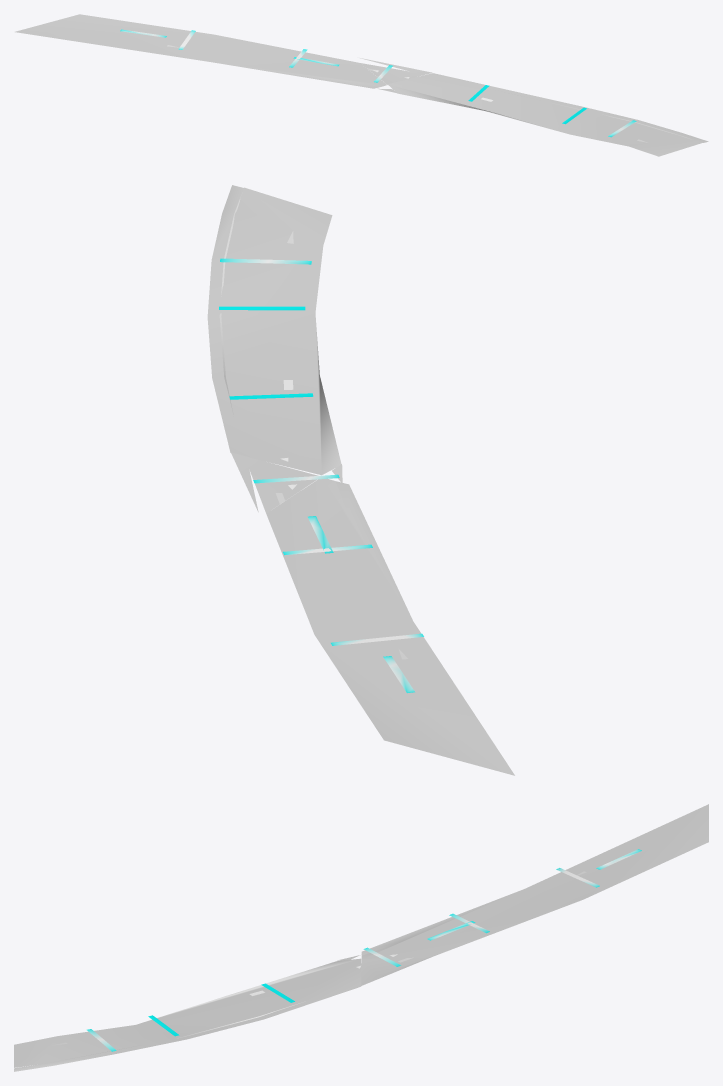
Rendered from cell_70_50.fbx.
The picture shows the model from 3 angles, top to bottom: view 1: azimuth 30°, elevation 25°; view 2: azimuth 150°, elevation 25°; view 3: azimuth 270°, elevation 25°; orthographic projection. The views are drawn at different scales.
Parts seen in each view (by area): view 1: SpaceCenter_Long3_GenerateRoad_Asphalt_Mesh_x87_y62_13808_HD, SpaceCenter_Long3_GenerateRoad_Asphalt_Mesh_x88_y63_13967_HD, SpaceCenter_Long3_GenerateRoad_Asphalt_PCGMesh_Decal_Mesh_x8 (×2), SpaceCenter_Long3_GenerateRoad_Asphalt_Mesh_x87_y63_13809_HD; view 2: SpaceCenter_Long3_GenerateRoad_Asphalt_Mesh_x88_y63_13967_HD, SpaceCenter_Long3_GenerateRoad_Asphalt_Mesh_x87_y62_13808_HD, SpaceCenter_Long3_GenerateRoad_Asphalt_PCGMesh_Decal_Mesh_x8 (×2), SpaceCenter_Long3_GenerateRoad_Asphalt_Mesh_x87_y63_13809_HD; view 3: SpaceCenter_Long3_GenerateRoad_Asphalt_Mesh_x87_y62_13808_HD, SpaceCenter_Long3_GenerateRoad_Asphalt_Mesh_x88_y63_13967_HD, SpaceCenter_Long3_GenerateRoad_Asphalt_PCGMesh_Decal_Mesh_x8 (×2), SpaceCenter_Long3_GenerateRoad_Asphalt_Mesh_x87_y63_13809_HD.
Part boxes in pixels (left/top/right/bottom): SpaceCenter_Long3_GenerateRoad_Asphalt_Mesh_x87_y62_13808_HD: left=15, top=14, right=386, bottom=88; SpaceCenter_Long3_GenerateRoad_Asphalt_Mesh_x88_y63_13967_HD: left=388, top=73, right=708, bottom=156; SpaceCenter_Long3_GenerateRoad_Asphalt_PCGMesh_Decal_Mesh_x8 (×2): left=120, top=29, right=636, bottom=137; SpaceCenter_Long3_GenerateRoad_Asphalt_Mesh_x87_y63_13809_HD: left=360, top=58, right=432, bottom=84; SpaceCenter_Long3_GenerateRoad_Asphalt_Mesh_x88_y63_13967_HD: left=207, top=185, right=341, bottom=475; SpaceCenter_Long3_GenerateRoad_Asphalt_Mesh_x87_y62_13808_HD: left=266, top=478, right=514, bottom=775; SpaceCenter_Long3_GenerateRoad_Asphalt_PCGMesh_Decal_Mesh_x8 (×2): left=219, top=258, right=423, bottom=692; SpaceCenter_Long3_GenerateRoad_Asphalt_Mesh_x87_y63_13809_HD: left=231, top=452, right=318, bottom=513; SpaceCenter_Long3_GenerateRoad_Asphalt_Mesh_x87_y62_13808_HD: left=361, top=804, right=708, bottom=959; SpaceCenter_Long3_GenerateRoad_Asphalt_Mesh_x88_y63_13967_HD: left=14, top=958, right=361, bottom=1071; SpaceCenter_Long3_GenerateRoad_Asphalt_PCGMesh_Decal_Mesh_x8 (×2): left=87, top=849, right=641, bottom=1051; SpaceCenter_Long3_GenerateRoad_Asphalt_Mesh_x87_y63_13809_HD: left=361, top=954, right=437, bottom=985.
Size of the model in its own units: 112 by 4.58 by 128.
